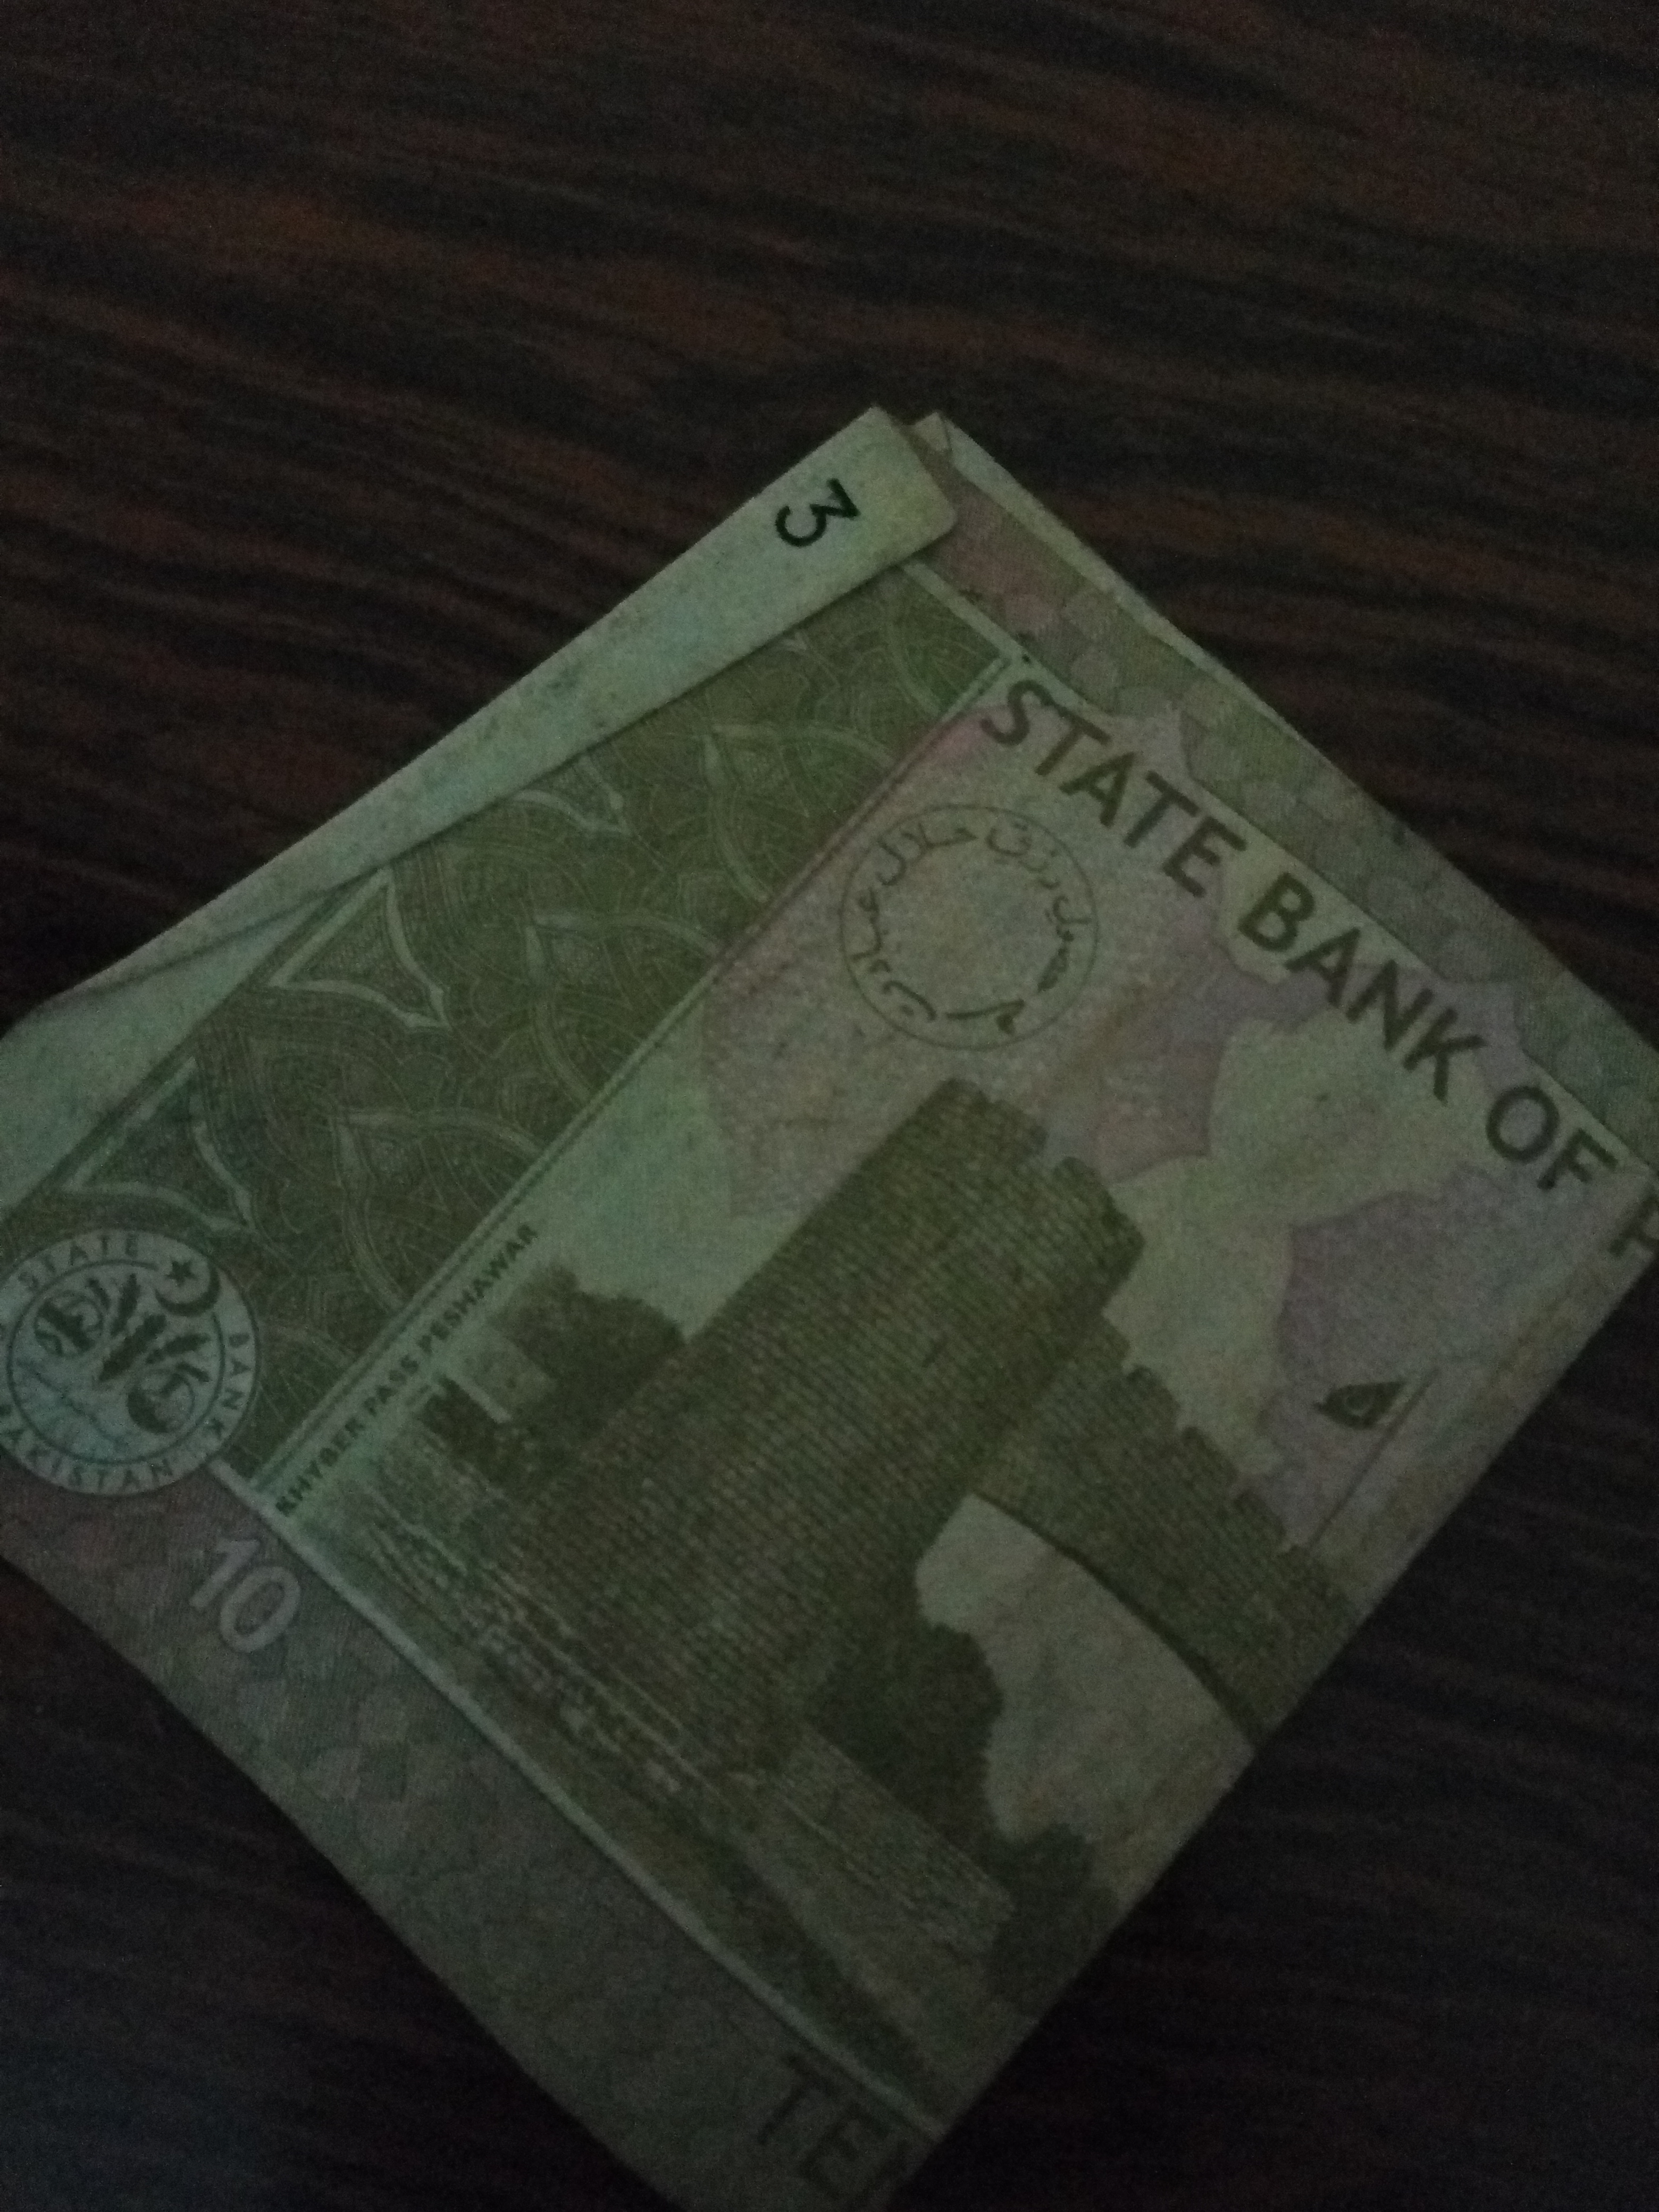10 rupee: (0, 368, 1638, 2198)
